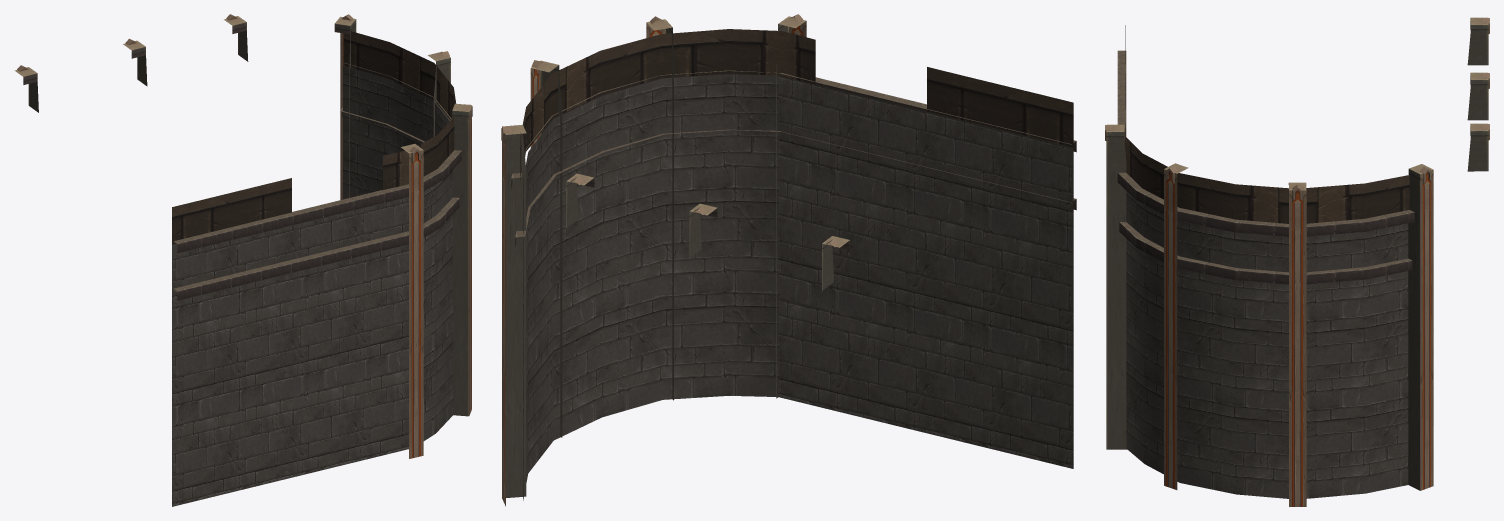
Rendered from terrain_section03_guanka1206.FBX.
The picture shows the model from 3 angles, left to right: view 1: azimuth 30°, elevation 25°; view 2: azimuth 150°, elevation 25°; view 3: azimuth 270°, elevation 25°; orthographic projection. The views are drawn at different scales.
Visible parts, largest first — view 1: terrain_section03_guanka1206; view 2: terrain_section03_guanka1206; view 3: terrain_section03_guanka1206.
Boxes of the visible parts, box(x1,y1,x2,y2) form: terrain_section03_guanka1206: box(14, 14, 472, 506); terrain_section03_guanka1206: box(501, 14, 1076, 506); terrain_section03_guanka1206: box(1105, 17, 1489, 506).
Size of the model in its own units: 33.63 by 27.69 by 30.06.
